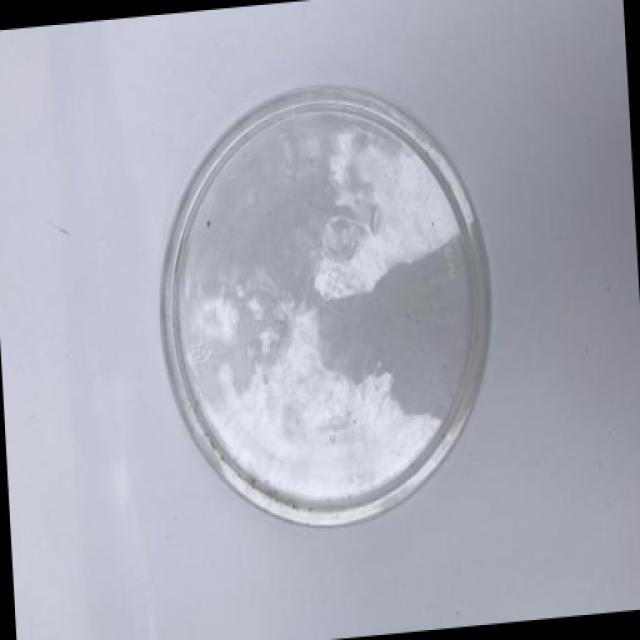plastico: (137, 48, 569, 570)
